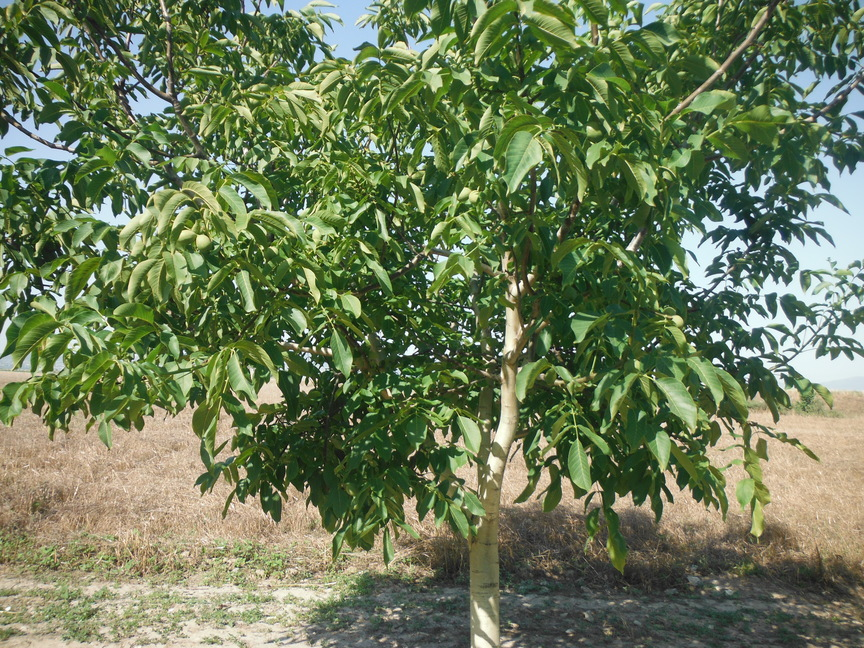walnut: (578, 119, 608, 145), (172, 226, 200, 248), (193, 230, 214, 257), (623, 357, 644, 377), (245, 92, 263, 112), (261, 243, 281, 261), (454, 184, 472, 203), (562, 285, 581, 303), (668, 312, 686, 330), (344, 480, 360, 497), (468, 188, 483, 205), (320, 96, 332, 113), (311, 226, 324, 241), (105, 127, 117, 143), (309, 237, 321, 248)
